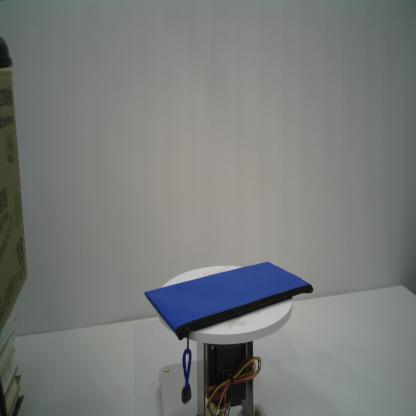Stationery: (141, 260, 316, 405)
